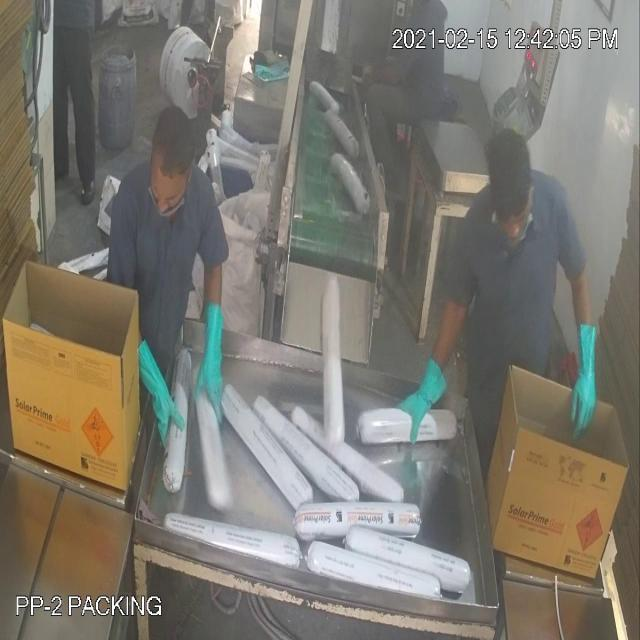gloves: (129, 316, 187, 461), (391, 343, 457, 453), (189, 284, 235, 440), (565, 298, 607, 444)
no-gloves: (357, 56, 417, 97)
